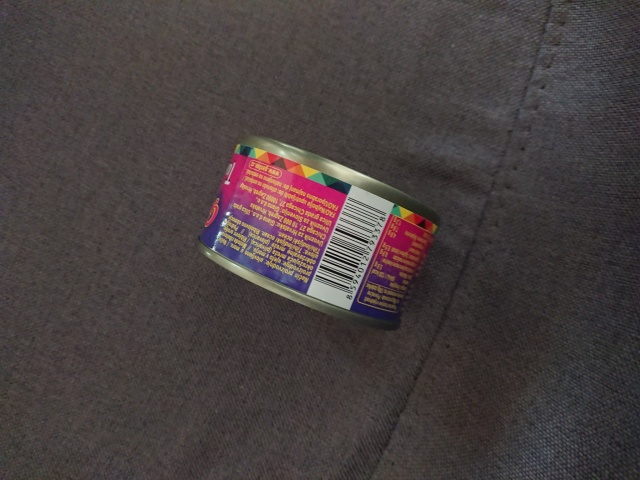Giana Tuna Salad Mexico 185g: (190, 128, 444, 333)
